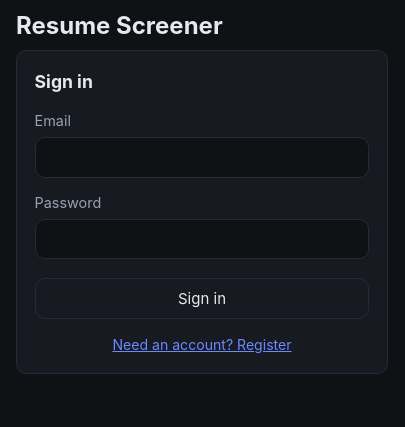
Test case: LoginPage › reports an unreachable server instead of hanging
The image size is (405, 427).
Type "me@example.com" into the field labelled "Email". click: (202, 158)
box: [35,137,369,178]
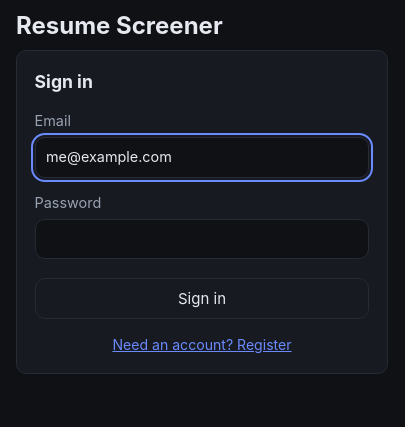
Type "devpassword" into the password field labelled "Password". click: (202, 239)
box: [35,219,369,260]
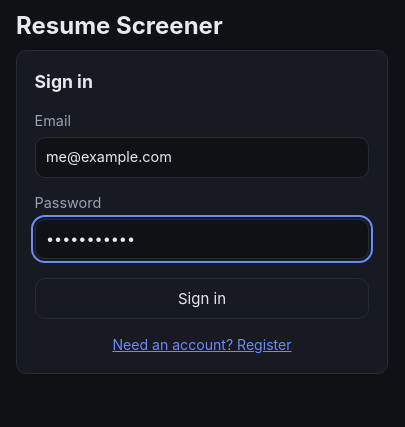
Click the button "Sign in". click: (202, 299)
box: [35,278,369,319]
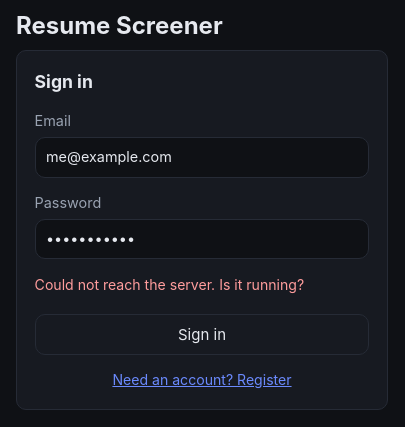
Expected: the message shows "Could not reach the server", [35,276,304,293]
